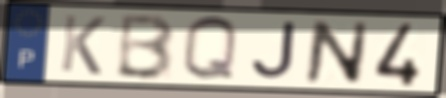4: (371, 20, 424, 89)
B: (113, 12, 178, 82)
J: (248, 20, 298, 82)
K: (57, 13, 108, 77)
N: (302, 18, 371, 86)
Q: (180, 14, 240, 84)
